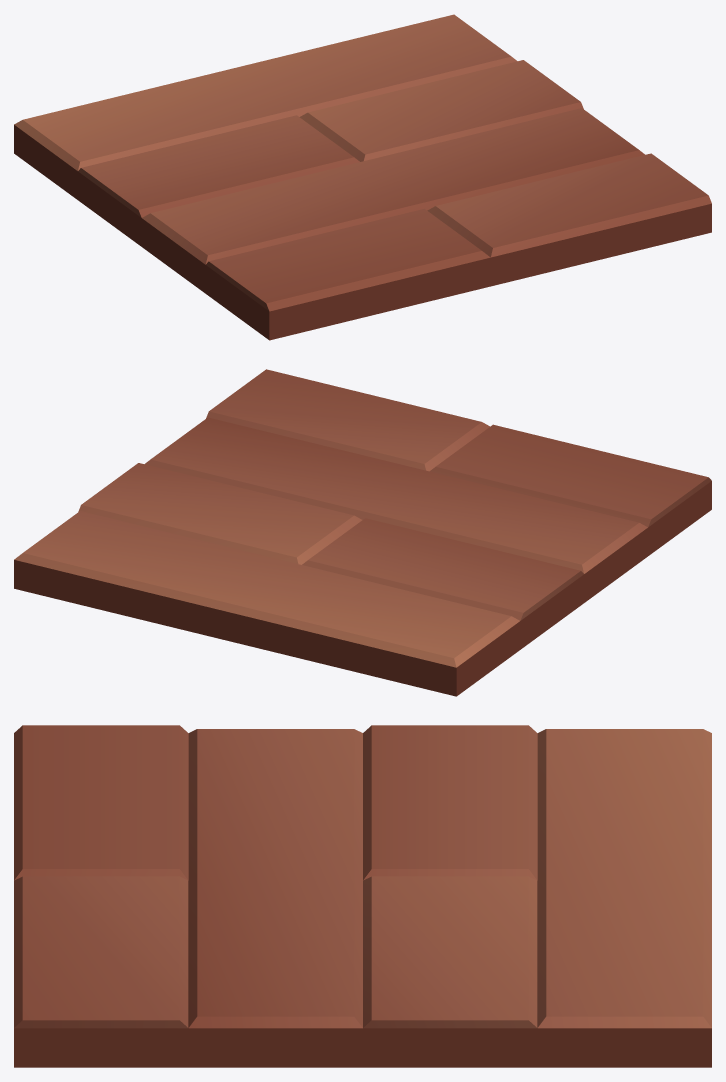
Rendered from floor_wood_small.gltf.
The picture shows the model from 3 angles, top to bottom: view 1: azimuth 30°, elevation 25°; view 2: azimuth 150°, elevation 25°; view 3: azimuth 270°, elevation 25°; orthographic projection. The views are drawn at different scales.
Parts seen in each view (by area): view 1: floor_wood_small; view 2: floor_wood_small; view 3: floor_wood_small.
Part boxes in pixels (bbox=[...]): floor_wood_small: bbox=[14, 14, 711, 340]; floor_wood_small: bbox=[14, 369, 711, 696]; floor_wood_small: bbox=[14, 725, 711, 1067].
Size of the model in its own units: 2 by 0.15 by 2.
1 material, 1 textured.
